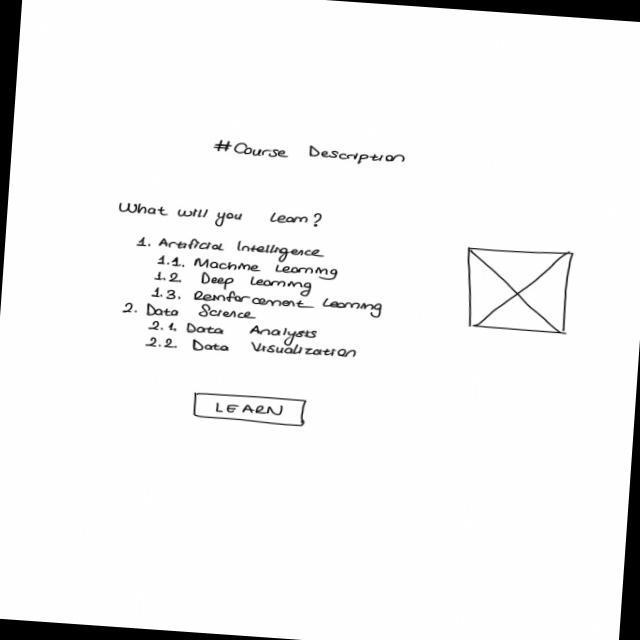button: (191, 391, 310, 429)
image: (462, 244, 576, 336)
label: (115, 198, 324, 234), (211, 138, 407, 169)
textbox: (118, 232, 388, 366)
